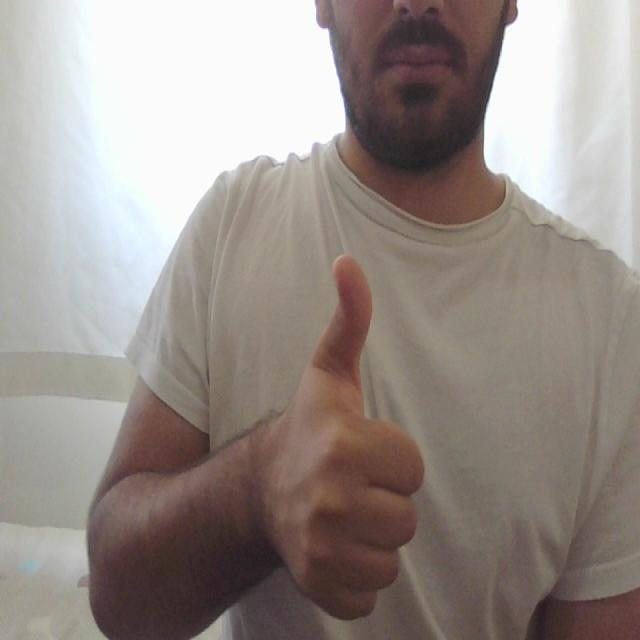Tamam: (240, 249, 434, 629)
